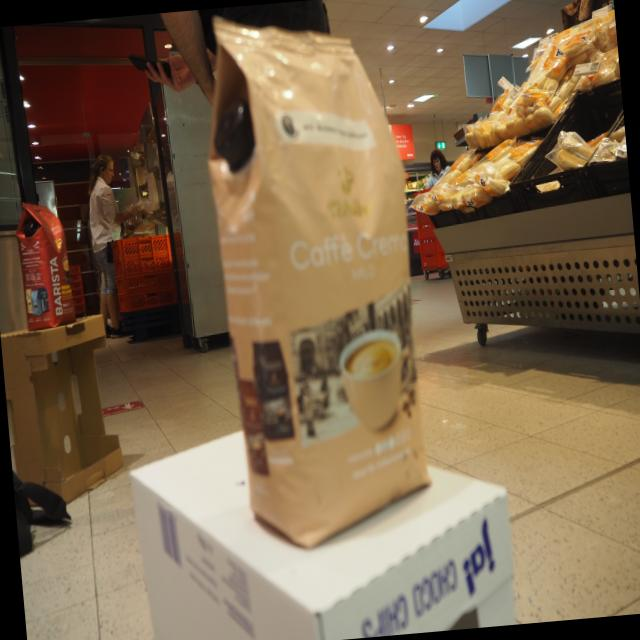CC Mild: (190, 0, 443, 563)
